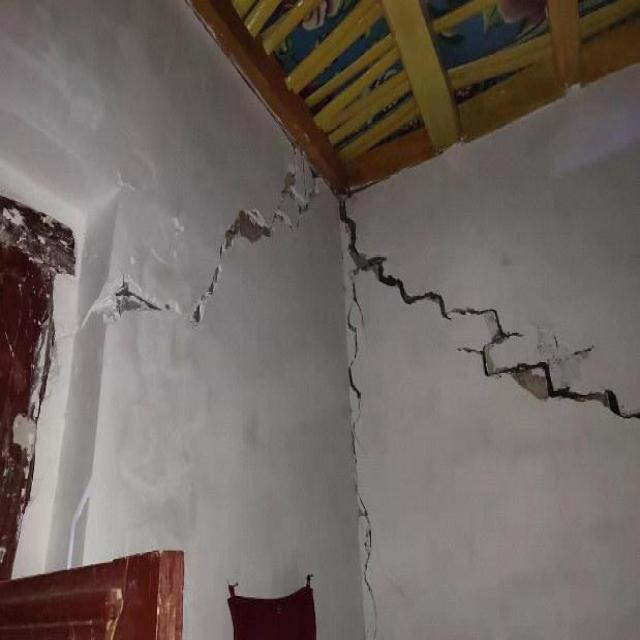damage: (444, 296, 640, 470), (81, 190, 267, 369), (322, 287, 411, 640), (330, 186, 493, 339), (236, 118, 350, 282)
